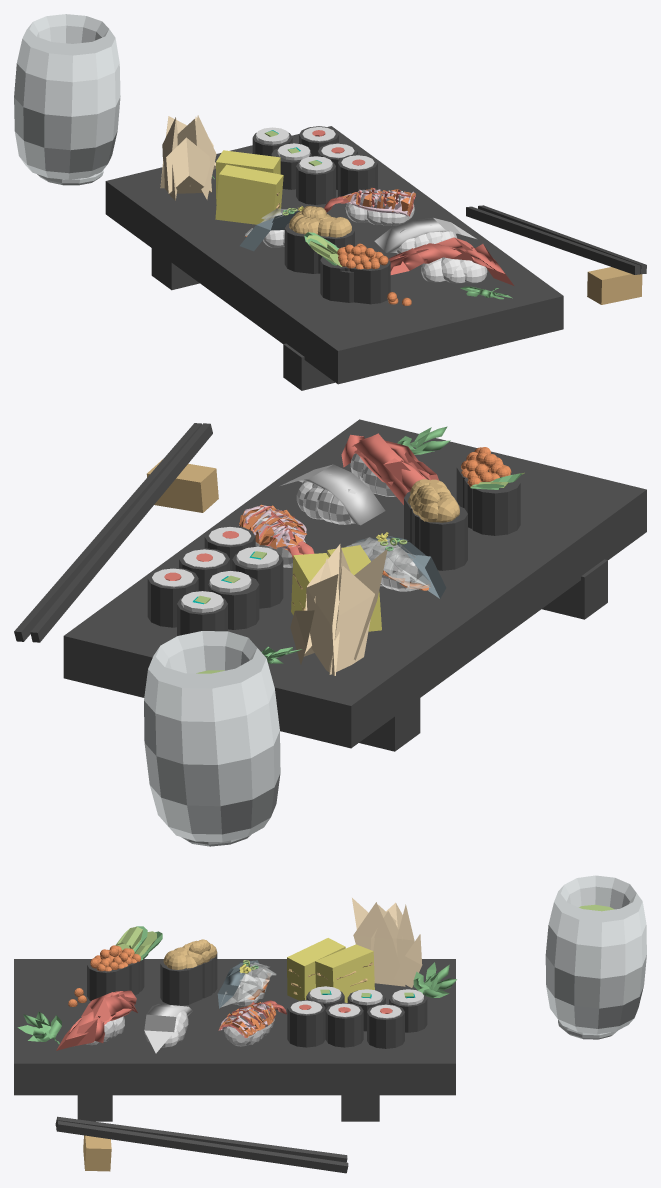
File: sushi.fbx
3 renders of one model, top to bottom at view 1: azimuth 30°, elevation 25°; view 2: azimuth 150°, elevation 25°; view 3: azimuth 270°, elevation 25°, orthographic. The views are drawn at different scales.
Parts seen in each view (by area): view 1: model, model.017, model.018, model.006, model.008, model.009, model.001, model.004, model.003, model.016, model.011, model.005 (+5 smaller); view 2: model, model.017, model.018, model.006, model.001, model.003, model.008, model.005, model.004, model.013, model.015, model.016 (+5 smaller); view 3: model, model.017, model.018, model.006, model.001, model.008, model.010, model.004, model.005, model.009, model.011, model.003 (+5 smaller).
Part boxes in pixels (<box>): model: <box>105,115,563,390</box>; model.017: <box>14,14,120,185</box>; model.018: <box>466,205,646,304</box>; model.006: <box>304,232,411,305</box>; model.008: <box>388,237,514,285</box>; model.009: <box>215,164,283,224</box>; model.001: <box>284,206,354,273</box>; model.004: <box>324,188,415,225</box>; model.003: <box>374,217,476,253</box>; model.016: <box>296,156,335,204</box>; model.011: <box>338,154,377,196</box>; model.005: <box>240,206,303,251</box>; model: <box>63,419,646,751</box>; model.017: <box>144,631,280,846</box>; model.018: <box>14,423,218,642</box>; model.006: <box>456,447,524,535</box>; model.001: <box>404,479,467,570</box>; model.003: <box>280,464,385,525</box>; model.008: <box>341,433,438,504</box>; model.005: <box>346,532,446,598</box>; model.004: <box>239,504,314,567</box>; model.013: <box>147,567,198,627</box>; model.015: <box>208,571,259,629</box>; model.016: <box>232,546,283,608</box>; model: <box>14,898,456,1121</box>; model.017: <box>545,875,646,1039</box>; model.018: <box>55,1116,348,1173</box>; model.006: <box>68,926,162,1005</box>; model.001: <box>160,939,217,1005</box>; model.008: <box>56,990,137,1050</box>; model.010: <box>315,944,374,1002</box>; model.004: <box>218,1000,286,1046</box>; model.005: <box>217,960,276,1008</box>; model.009: <box>287,938,345,1000</box>; model.011: <box>287,999,325,1047</box>; model.003: <box>144,1004,192,1053</box>.
Bounding box in the file's own units: 122 × 52.59 × 199.
